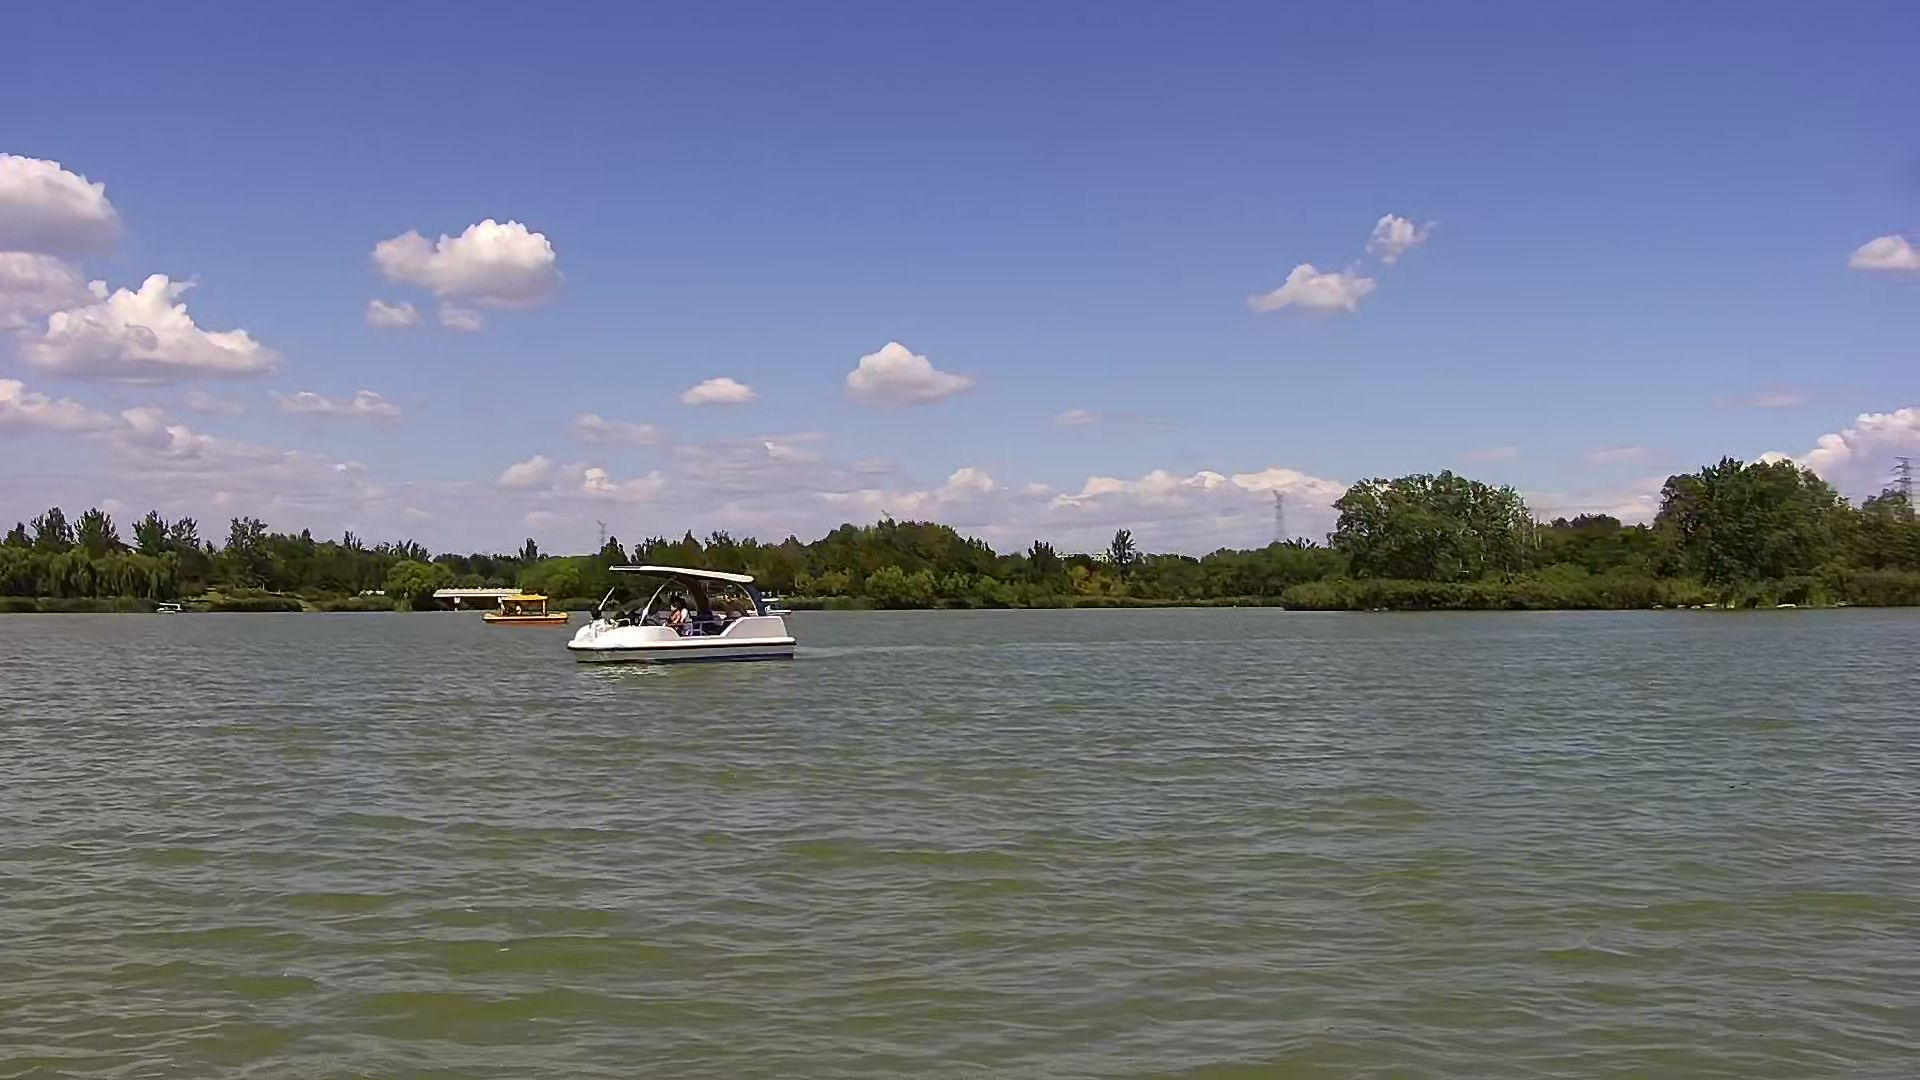boat: (567, 560, 799, 673), (484, 593, 574, 626)
bridge: (436, 587, 522, 611)
